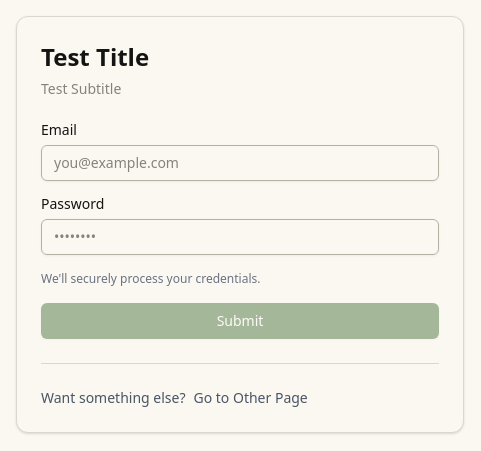
Test: AuthCard Component › should display a loading state on the button during submission
The image size is (481, 451).
Type "test@example.com" into the field labelled "Email" at (240, 162), box [41, 144, 439, 180]
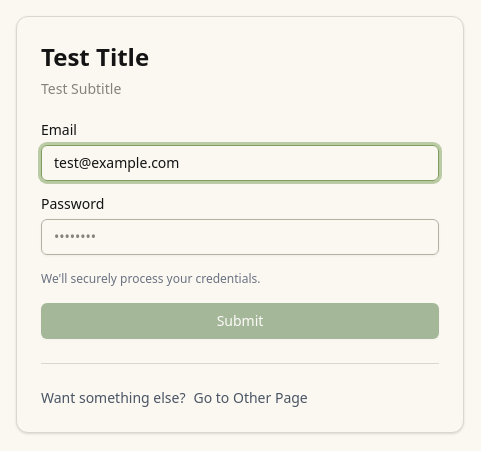
Type "password123" into the password field labelled "Password" at (240, 236), box [41, 218, 439, 254]
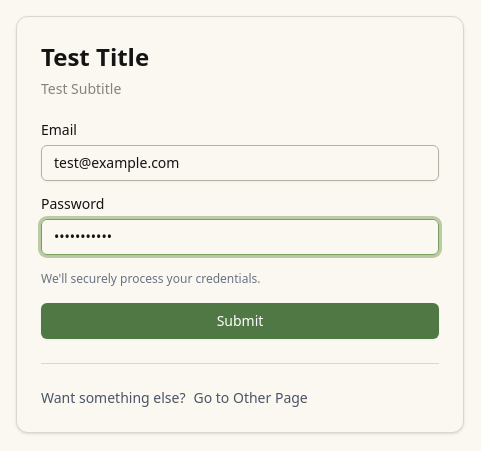
Click the button "Submit" at (240, 320), box [41, 302, 439, 338]
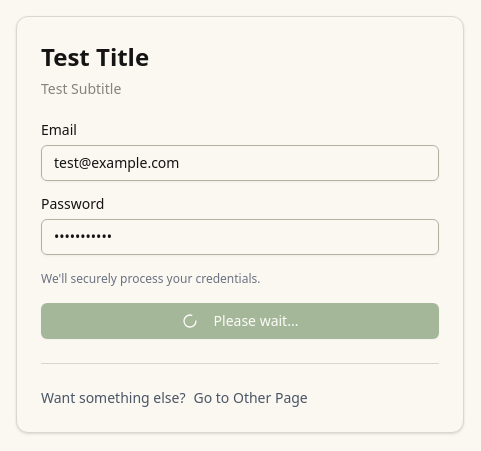
expect the button named "Submit" is disabled: met, box [41, 302, 439, 338]
